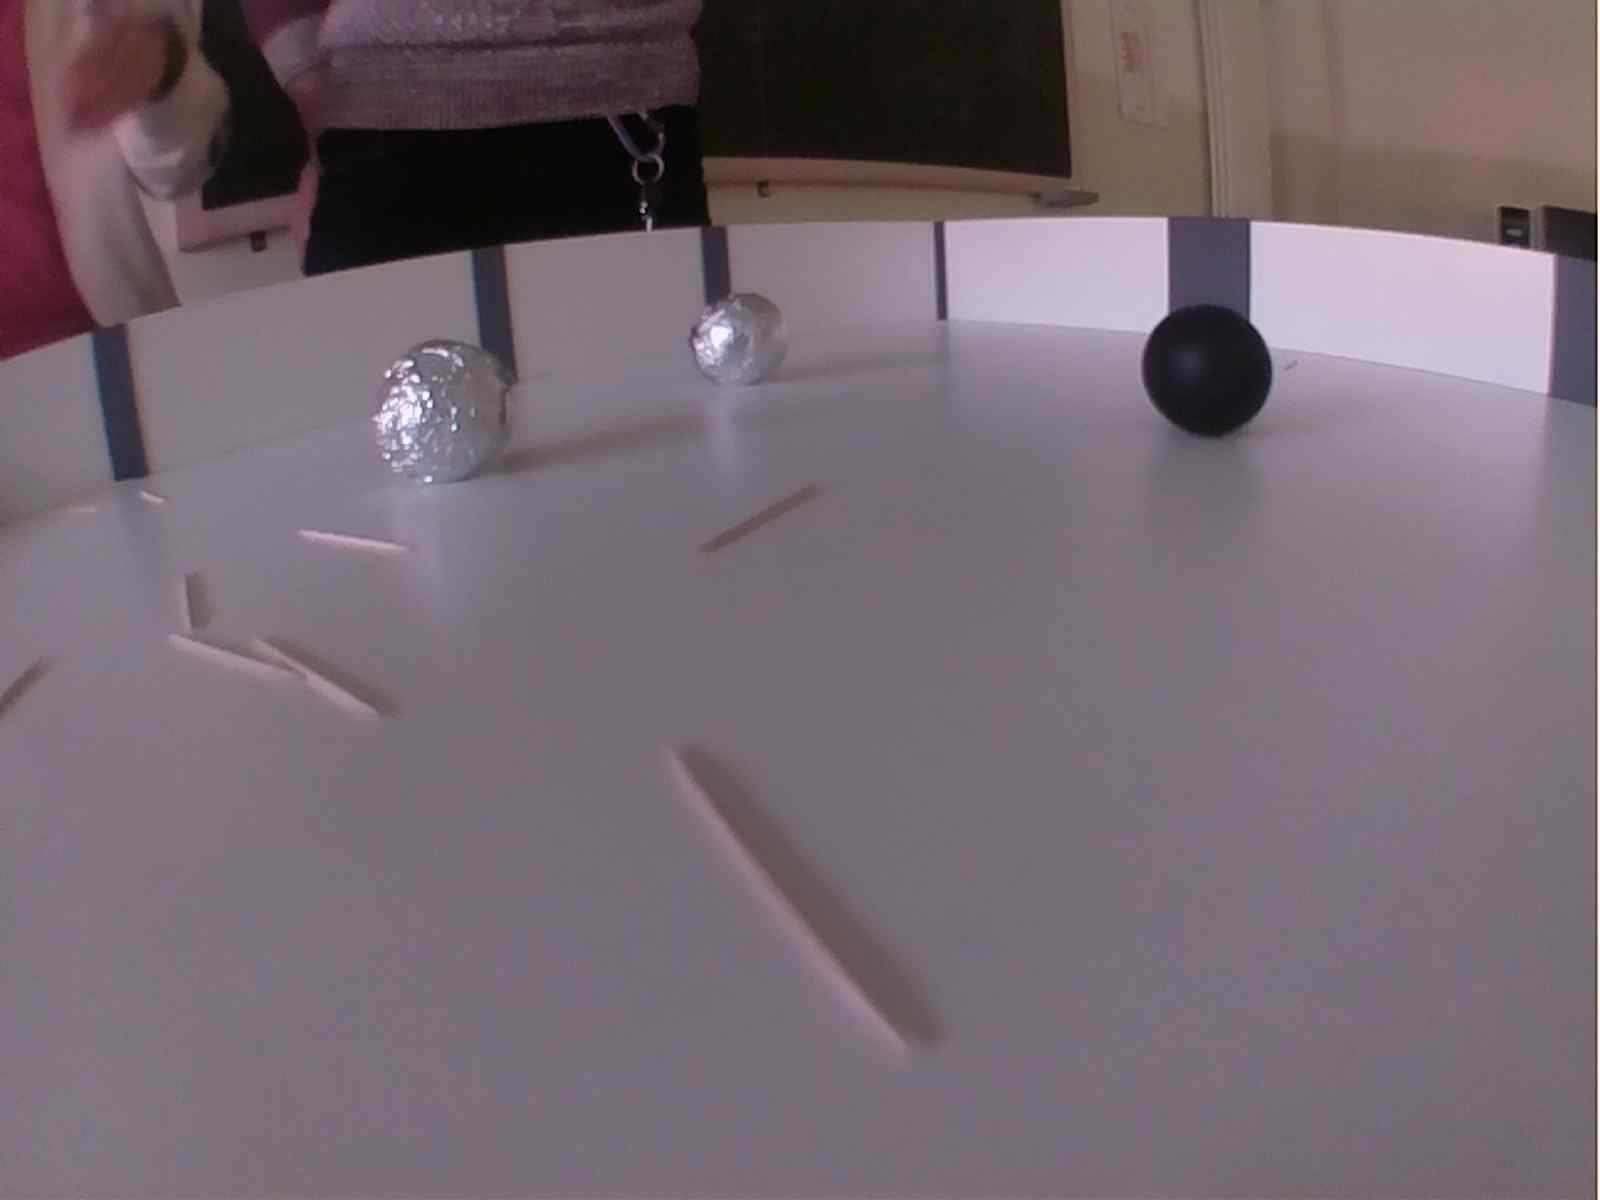bianca: (378, 332, 515, 493), (690, 287, 792, 391)
nera: (1140, 299, 1277, 444)
